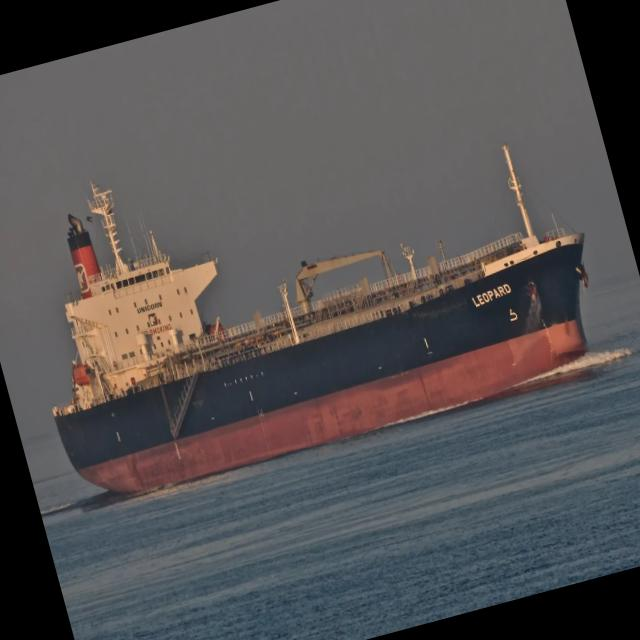Tanker: (52, 146, 588, 491)
